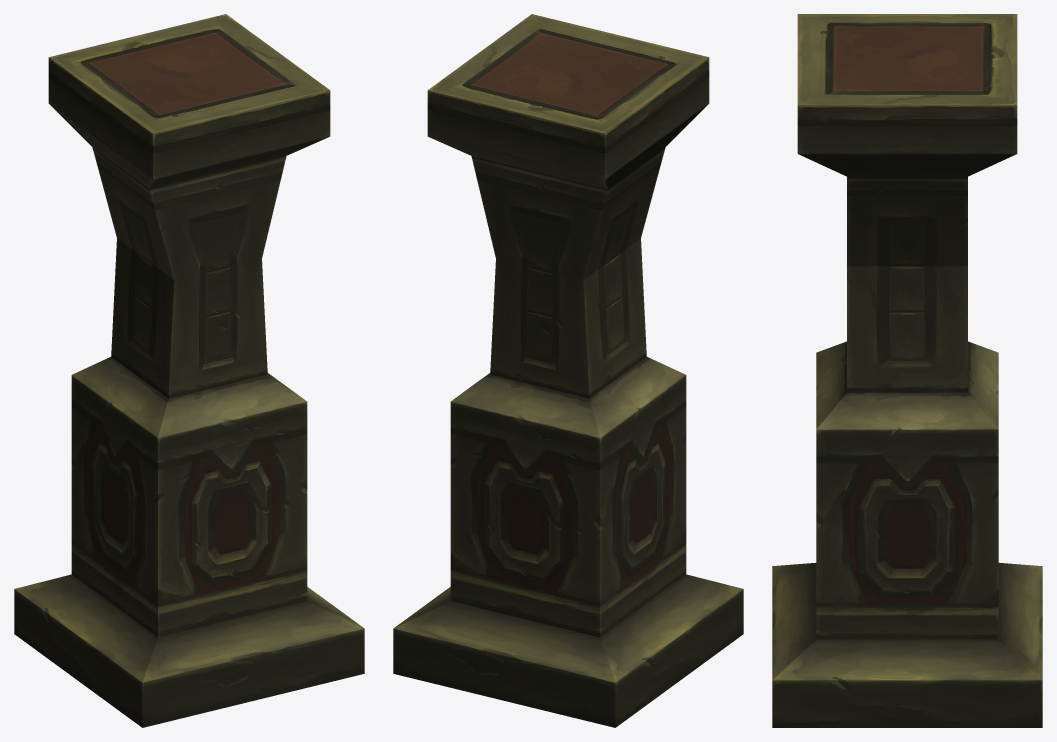
Rendered from mobile_pillar01_b.fbx.
3 views of the same model, side by side, from view 1: azimuth 30°, elevation 25°; view 2: azimuth 150°, elevation 25°; view 3: azimuth 270°, elevation 25° (orthographic). The views are drawn at different scales.
Parts seen in each view (by area): view 1: mobile_pillar01_b; view 2: mobile_pillar01_b; view 3: mobile_pillar01_b.
Boxes of the visible parts, bbox=[...] form: mobile_pillar01_b: bbox=[14, 14, 364, 727]; mobile_pillar01_b: bbox=[393, 14, 743, 727]; mobile_pillar01_b: bbox=[772, 14, 1042, 727].
Bounding box in the file's own units: 161 × 400 × 161.
Materials: 1 (1 with a texture image).
